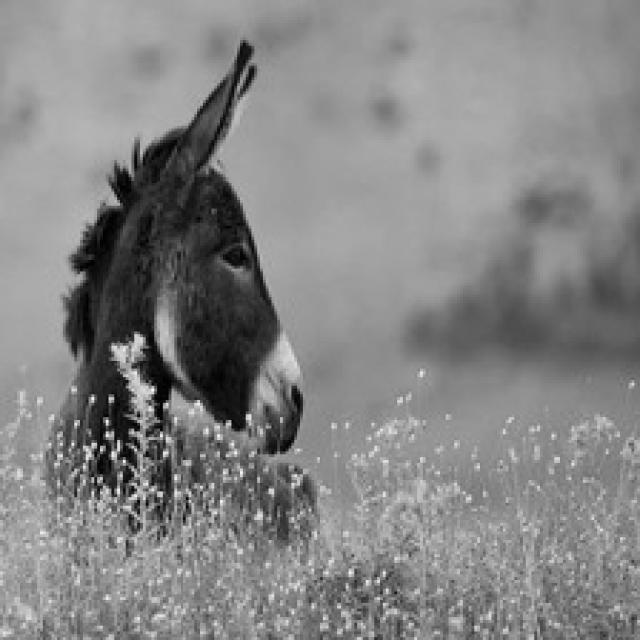Donkey: (37, 37, 326, 554)
